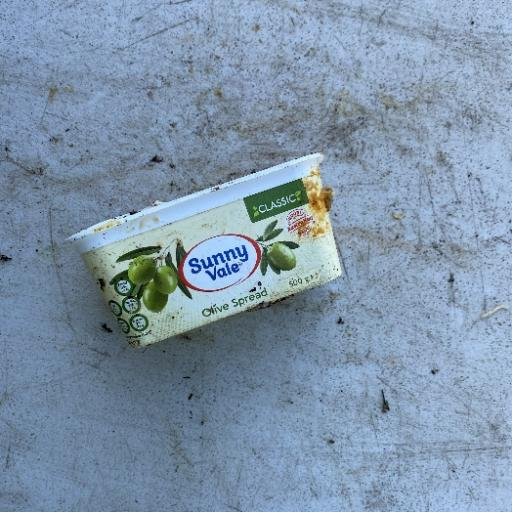Plastic: (63, 150, 344, 352)
